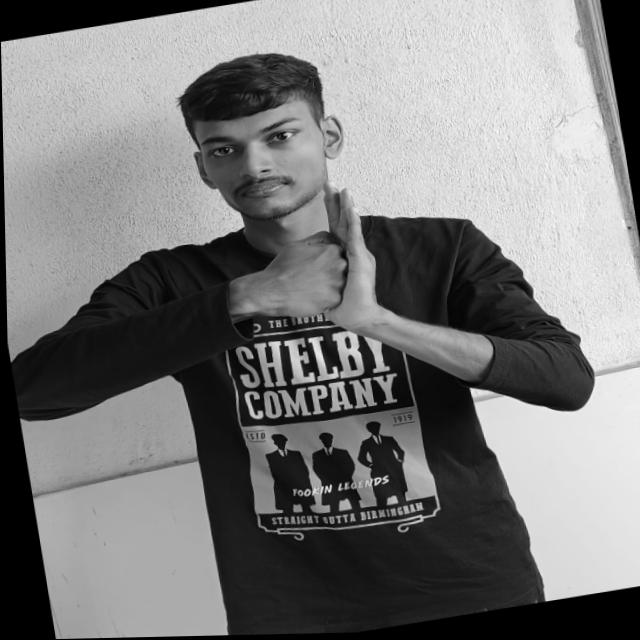Well Done: (229, 175, 420, 356)
